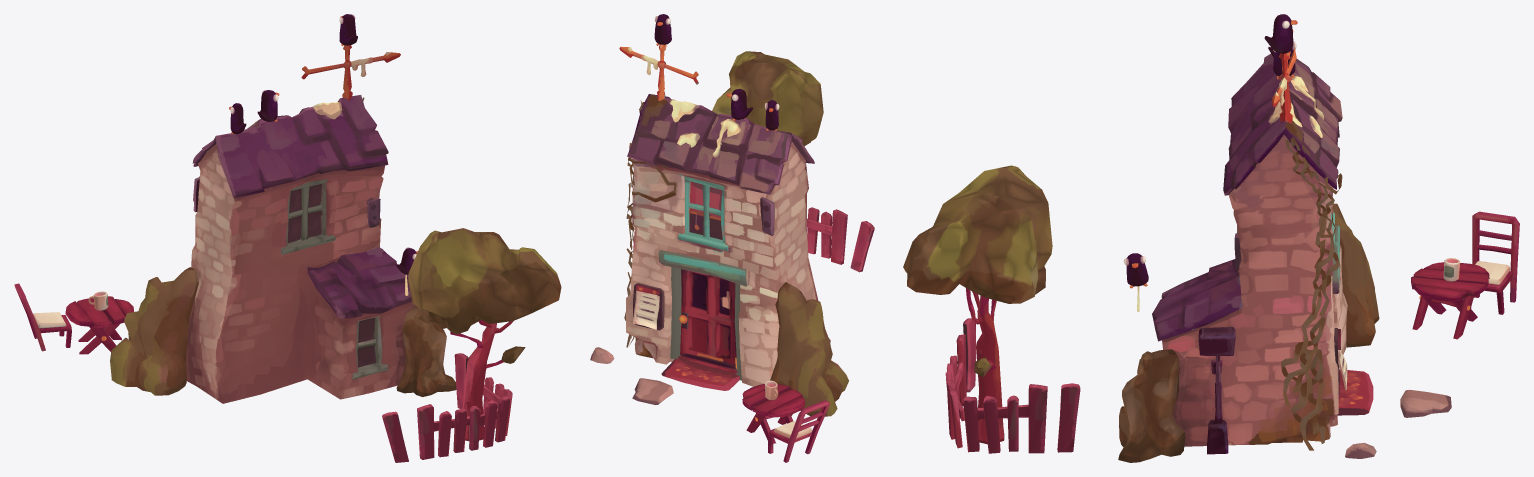
The model's file is polysurface55_blinn2_0.001_lev2.glb.
3 renders of one model, left to right at view 1: azimuth 30°, elevation 25°; view 2: azimuth 150°, elevation 25°; view 3: azimuth 270°, elevation 25°, orthographic. The views are drawn at different scales.
Parts seen in each view (by area): view 1: polysurface55_blinn2_0.001_lev2; view 2: polysurface55_blinn2_0.001_lev2; view 3: polysurface55_blinn2_0.001_lev2.
Part boxes in pixels (<box>): polysurface55_blinn2_0.001_lev2: <box>14,14,561,462</box>; polysurface55_blinn2_0.001_lev2: <box>590,14,874,462</box>; polysurface55_blinn2_0.001_lev2: <box>903,14,1519,462</box>.
Bounding box in the file's own units: 31.02 × 31.47 × 41.74.
Materials: 1 (1 with a texture image).
